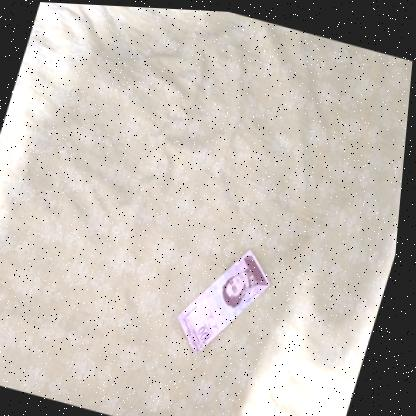one_hundred-front-vef: (170, 231, 284, 366)
